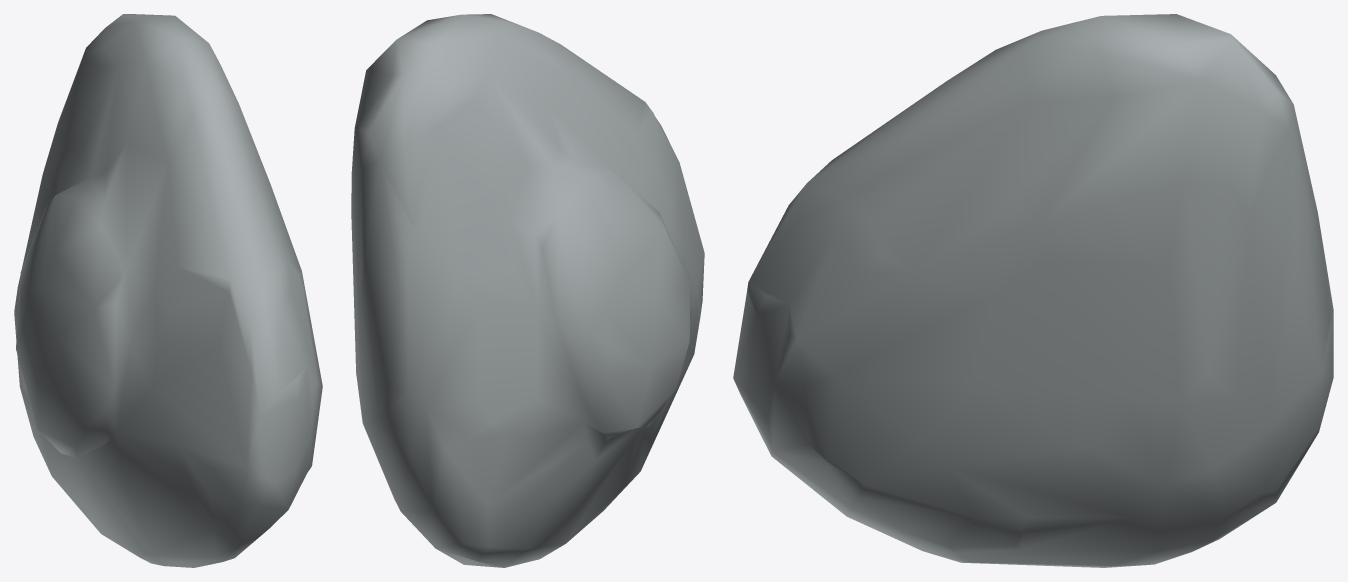
The model's file is seaglass.glb.
The picture shows the model from 3 angles, left to right: view 1: azimuth 30°, elevation 25°; view 2: azimuth 150°, elevation 25°; view 3: azimuth 270°, elevation 25°; orthographic projection. The views are drawn at different scales.
Parts seen in each view (by area): view 1: tripo_node_3118beba-9ae2-4f81-8085-c2bdceb5a90b; view 2: tripo_node_3118beba-9ae2-4f81-8085-c2bdceb5a90b; view 3: tripo_node_3118beba-9ae2-4f81-8085-c2bdceb5a90b.
Part boxes in pixels (<box>): tripo_node_3118beba-9ae2-4f81-8085-c2bdceb5a90b: <box>14,14,322,567</box>; tripo_node_3118beba-9ae2-4f81-8085-c2bdceb5a90b: <box>351,14,704,567</box>; tripo_node_3118beba-9ae2-4f81-8085-c2bdceb5a90b: <box>733,14,1333,567</box>.
Bounding box in the file's own units: 0.4826 × 1 × 0.9313.
Materials: 1 (1 with a texture image).
